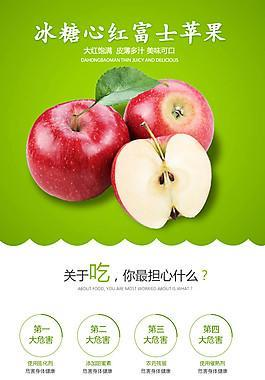apple: (25, 98, 129, 200), (112, 134, 213, 229), (124, 79, 214, 151)
